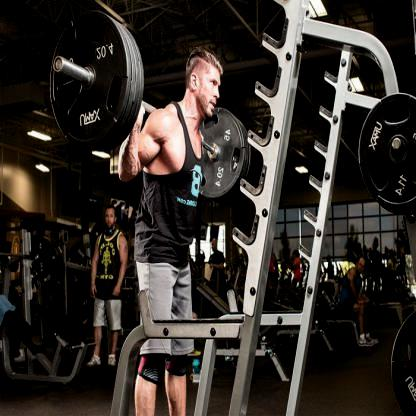Barbell: (50, 54, 61, 75)
